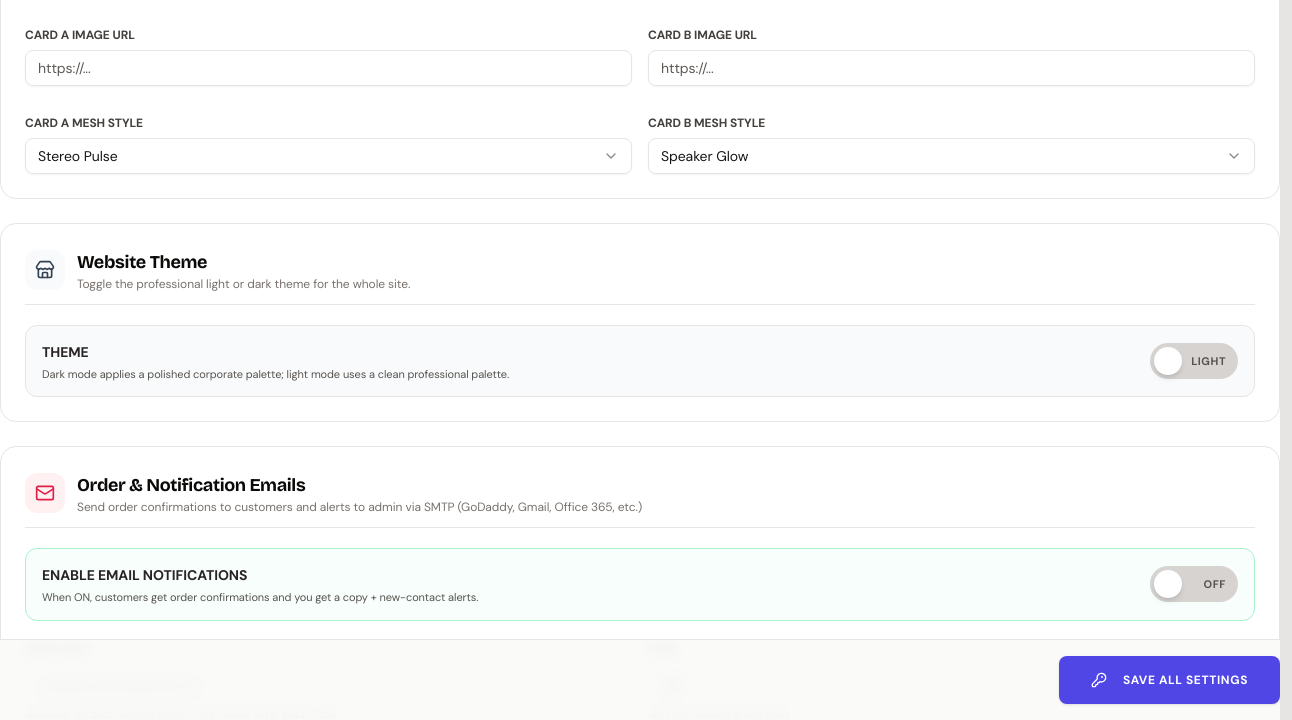
Test case: AdminSettings › renders theme toggle and saves professional-dark
(page scrolled)
Expected: the heading "Website Theme" is shown, top-left (77, 250), bottom-right (207, 272)
Click the switch with test id "set-site-theme-toggle": (1194,361) top-left (1150, 343), bottom-right (1238, 379)
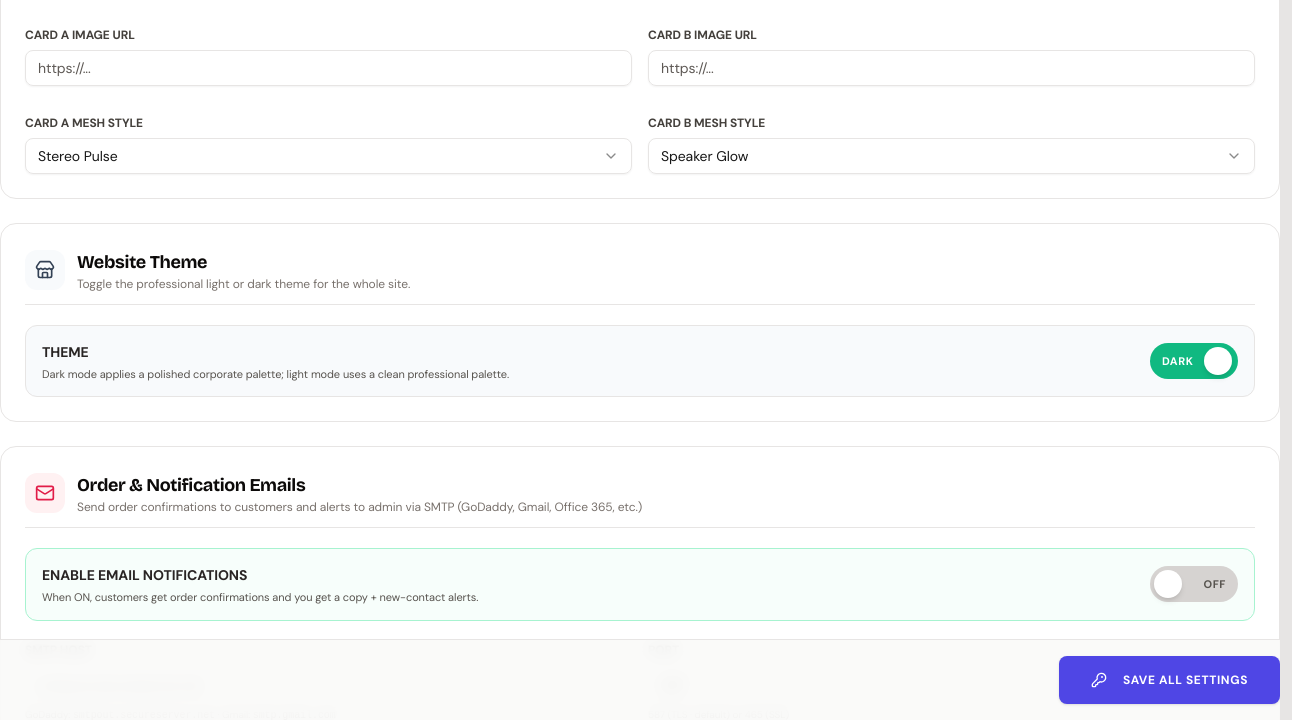
Expected: the switch with test id "set-site-theme-toggle" is checked, top-left (1150, 343), bottom-right (1238, 379)
